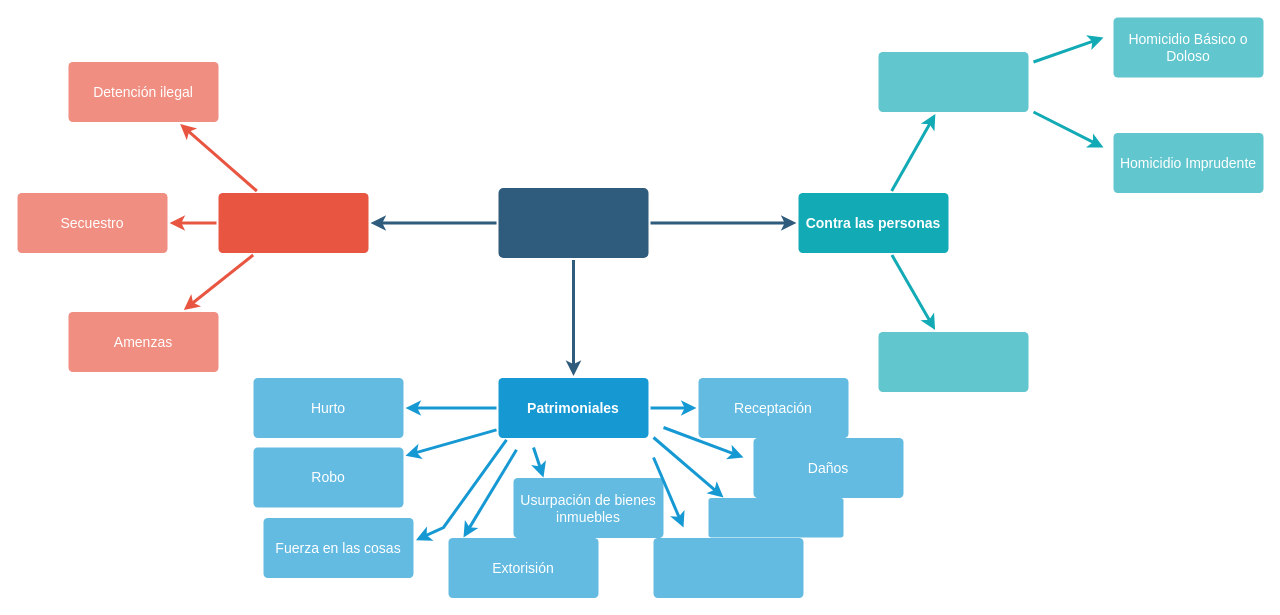
Image size: 1280x615. Some labels were removed from this diagram. The box of each missing label's shape, as (x1, y1, x2, y2) in pixels:
Apropiación indebida: (708, 498, 843, 537)
Asesinato: (878, 332, 1028, 392)
Contra la libertad: (218, 192, 368, 252)
DELITOS: (498, 188, 648, 258)
Estafa: (653, 538, 803, 598)
Homicidio: (878, 52, 1028, 112)
